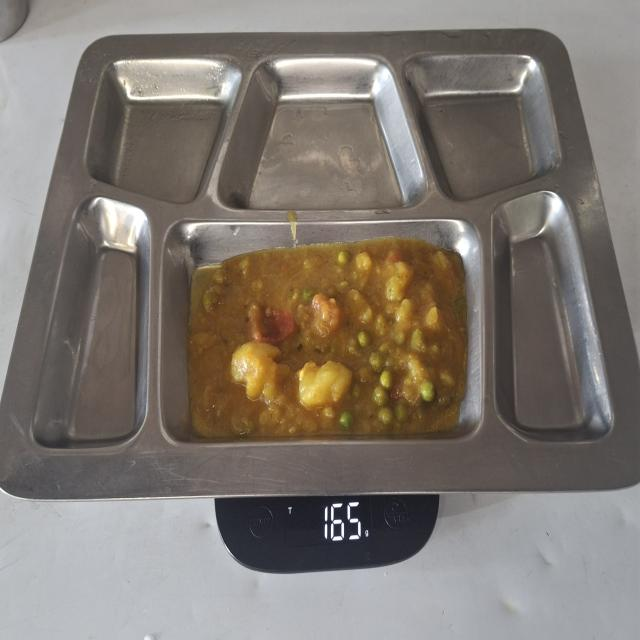Aloo Matar: (183, 241, 475, 439)
